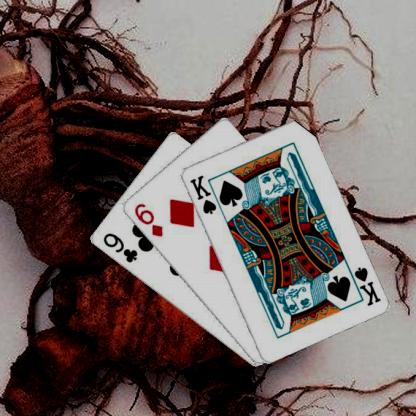6D: (131, 201, 164, 238)
9C: (100, 230, 139, 265)
KS: (344, 264, 382, 307), (187, 172, 217, 216)
